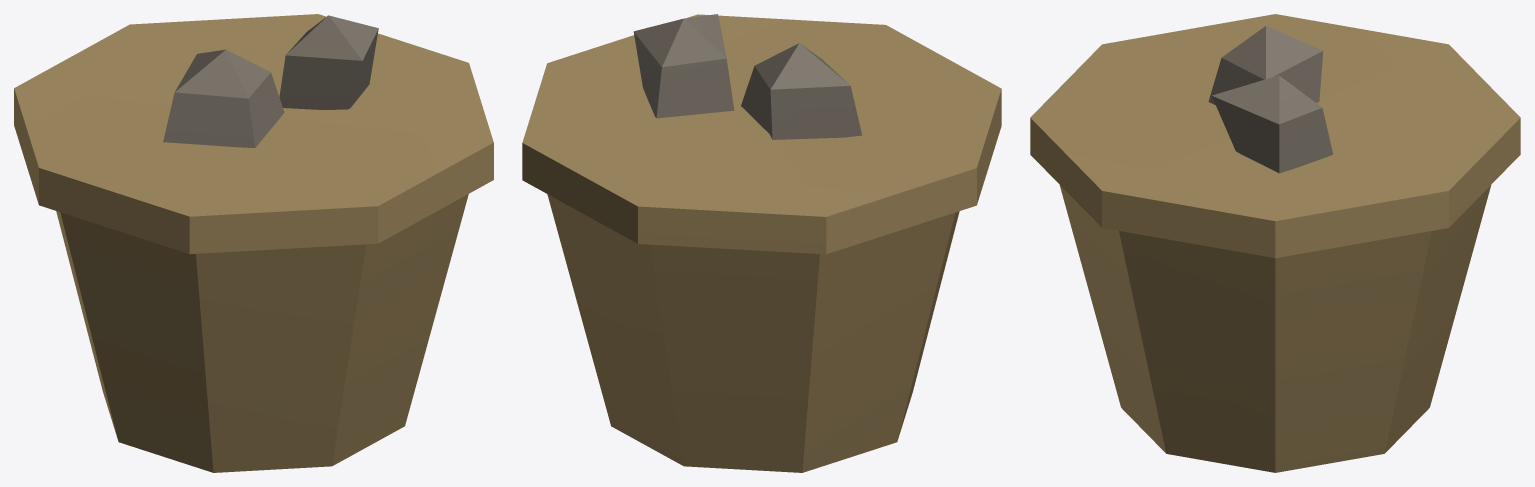
The model's file is caral_basket_lod1.glb.
The picture shows the model from 3 angles, left to right: view 1: azimuth 30°, elevation 25°; view 2: azimuth 150°, elevation 25°; view 3: azimuth 270°, elevation 25°; orthographic projection.
Visible parts, largest first — view 1: GEO-Props_basket_LOD1; view 2: GEO-Props_basket_LOD1; view 3: GEO-Props_basket_LOD1.
Boxes of the visible parts, bbox=[...] form: GEO-Props_basket_LOD1: bbox=[14, 14, 493, 472]; GEO-Props_basket_LOD1: bbox=[522, 14, 1001, 472]; GEO-Props_basket_LOD1: bbox=[1030, 14, 1520, 472].
Bounding box in the file's own units: 0.54 × 0.4485 × 0.54.
